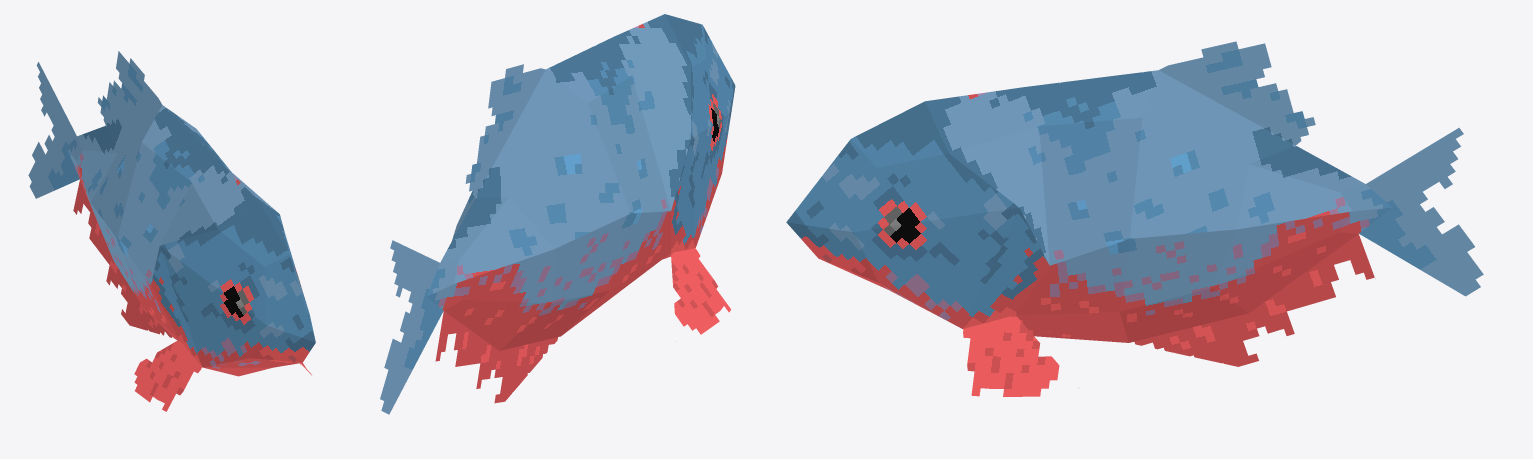
The model's file is piranhahigh.gltf.
The picture shows the model from 3 angles, left to right: view 1: azimuth 30°, elevation 25°; view 2: azimuth 150°, elevation 25°; view 3: azimuth 270°, elevation 25°; orthographic projection. The views are drawn at different scales.
Visible parts, largest first — view 1: Piranha; view 2: Piranha; view 3: Piranha.
Part boxes in pixels (bbox=[...]): Piranha: bbox=[28, 51, 315, 411]; Piranha: bbox=[380, 14, 735, 414]; Piranha: bbox=[786, 41, 1483, 396].
Size of the model in its own units: 0.3342 by 0.5084 by 0.903.
Materials: 1 (1 with a texture image).
